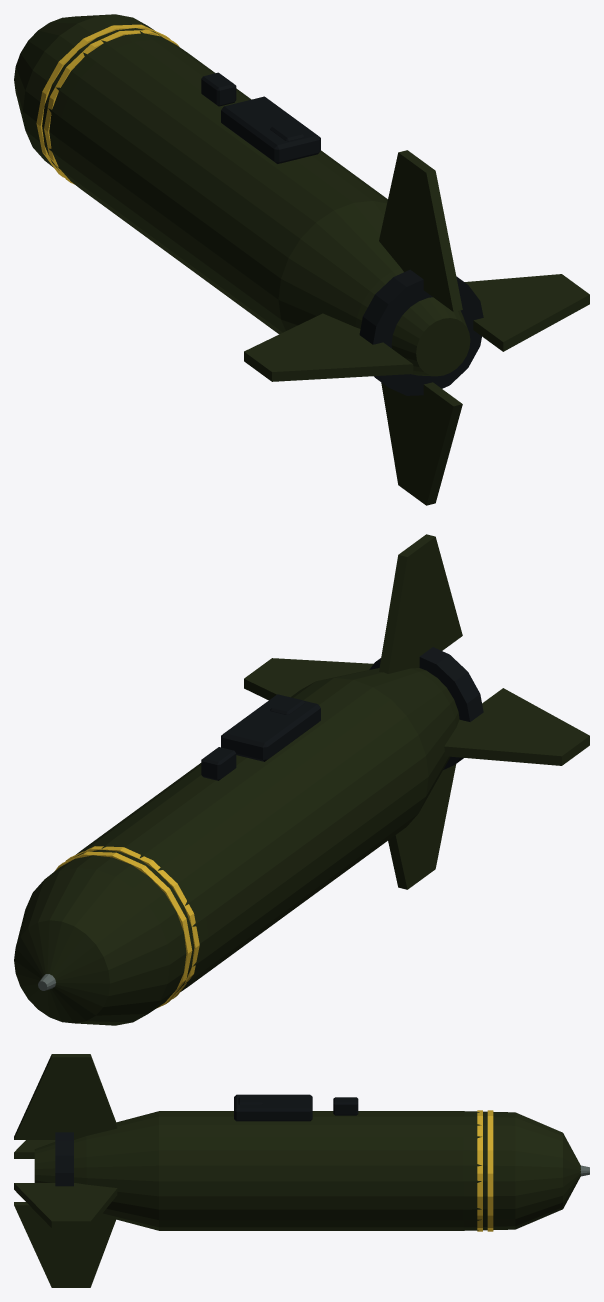
File: BombHeavy.obj
3 renders of one model, top to bottom at view 1: azimuth 30°, elevation 25°; view 2: azimuth 150°, elevation 25°; view 3: azimuth 270°, elevation 25°, orthographic. The views are drawn at different scales.
Visible parts, largest first — view 1: Bomb_forged_casing, Tail_stabilizer.001, Tail_stabilizer.002, Tail_stabilizer.003, Tail_stabilizer, Tail_collar, Mount_lug, Identification_band, Identification_band.001, Suspension_lug.001; view 2: Bomb_forged_casing, Tail_stabilizer.001, Tail_stabilizer.002, Tail_stabilizer.003, Mount_lug, Tail_stabilizer, Tail_collar, Identification_band, Identification_band.001, Suspension_lug.001; view 3: Bomb_forged_casing, Tail_stabilizer.001, Tail_stabilizer.003, Tail_stabilizer, Mount_lug, Tail_collar, Identification_band, Identification_band.001, Suspension_lug.001, Tail_stabilizer.002.
Part boxes in pixels (x1,y1,x2,y2): Bomb_forged_casing: (14,14,470,376); Tail_stabilizer.001: (379,150,462,311); Tail_stabilizer.002: (244,313,413,381); Tail_stabilizer.003: (381,382,462,505); Tail_stabilizer: (464,274,589,351); Tail_collar: (359,269,483,395); Mount_lug: (221,96,320,163); Identification_band: (36,24,170,177); Identification_band.001: (44,30,179,184); Suspension_lug.001: (201,72,236,106); Bomb_forged_casing: (14,668,459,1025); Tail_stabilizer.001: (379,534,462,673); Tail_stabilizer.002: (444,688,589,765); Tail_stabilizer.003: (388,764,456,889); Mount_lug: (221,694,320,761); Tail_stabilizer: (244,658,373,700); Tail_collar: (369,647,483,769); Identification_band: (54,851,192,1007); Identification_band.001: (65,846,199,999); Suspension_lug.001: (201,747,236,780); Bomb_forged_casing: (34,1111,580,1230); Tail_stabilizer.001: (14,1054,117,1139); Tail_stabilizer.003: (14,1202,115,1287); Tail_stabilizer: (14,1183,117,1227); Mount_lug: (234,1094,312,1121); Tail_collar: (55,1132,73,1186); Identification_band: (487,1110,493,1231); Identification_band.001: (477,1110,482,1231); Suspension_lug.001: (333,1097,358,1115); Tail_stabilizer.002: (14,1140,55,1158).
Size of the model in its own units: 1.23 by 1.23 by 2.78.
